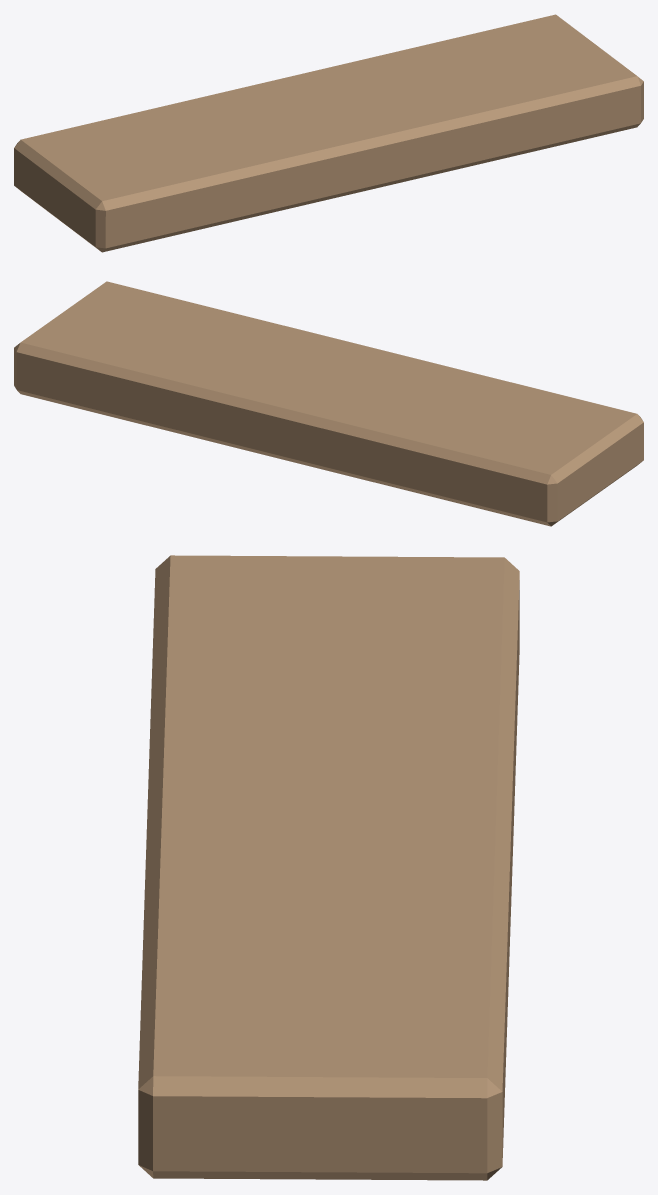
The model's file is ponte_tabua_1.fbx.
The picture shows the model from 3 angles, top to bottom: view 1: azimuth 30°, elevation 25°; view 2: azimuth 150°, elevation 25°; view 3: azimuth 270°, elevation 25°; orthographic projection. The views are drawn at different scales.
Visible parts, largest first — view 1: ponte_tabua_1~Tábua@wooddark; view 2: ponte_tabua_1~Tábua@wooddark; view 3: ponte_tabua_1~Tábua@wooddark.
Part boxes in pixels (x1,y1,x2,y2): ponte_tabua_1~Tábua@wooddark: (14,14,643,252); ponte_tabua_1~Tábua@wooddark: (14,281,643,526); ponte_tabua_1~Tábua@wooddark: (138,555,519,1180).
Size of the model in its own units: 1 by 0.0922 by 0.3037.
